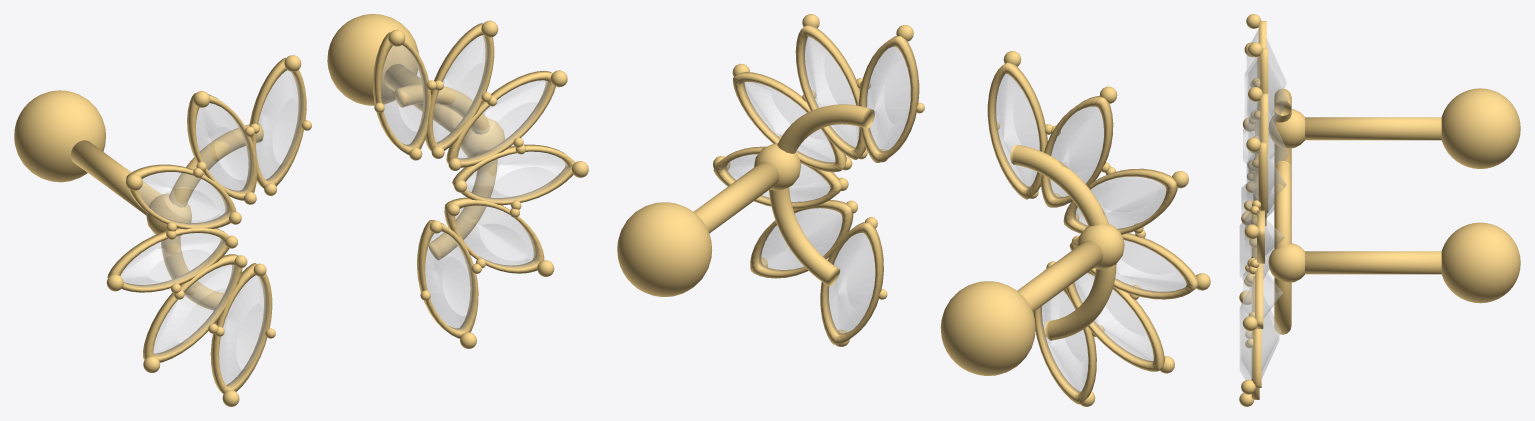
Rendered from earring.glb.
3 renders of one model, left to right at view 1: azimuth 30°, elevation 25°; view 2: azimuth 150°, elevation 25°; view 3: azimuth 270°, elevation 25°, orthographic. The views are drawn at different scales.
Parts seen in each view (by area): view 1: Earring_L_Gold, Earring_R_Gold, Earring_R_Stones, Earring_L_Stones; view 2: Earring_R_Gold, Earring_L_Gold, Earring_R_Stones, Earring_L_Stones; view 3: Earring_R_Gold, Earring_L_Gold, Earring_R_Stones, Earring_L_Stones.
Boxes of the visible parts, x1,y1,x2,y2 form: Earring_L_Gold: (14,55,311,406); Earring_R_Gold: (327,14,588,348); Earring_R_Stones: (381,35,569,331); Earring_L_Stones: (121,70,302,387); Earring_R_Gold: (617,14,924,346); Earring_L_Gold: (940,51,1210,406); Earring_R_Stones: (724,37,910,334); Earring_L_Stones: (994,74,1186,393); Earring_R_Gold: (1239,87,1520,406); Earring_L_Gold: (1239,14,1520,304); Earring_R_Stones: (1240,103,1288,379); Earring_L_Stones: (1240,30,1288,288).
Size of the model in its own units: 1.69 by 1.11 by 0.975.
